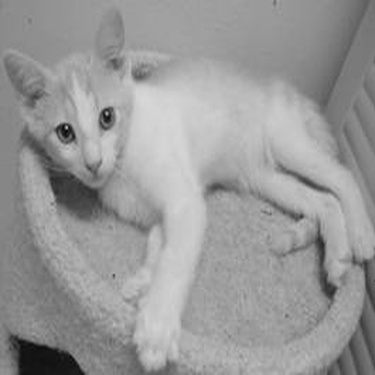cat: (3, 6, 371, 373)
